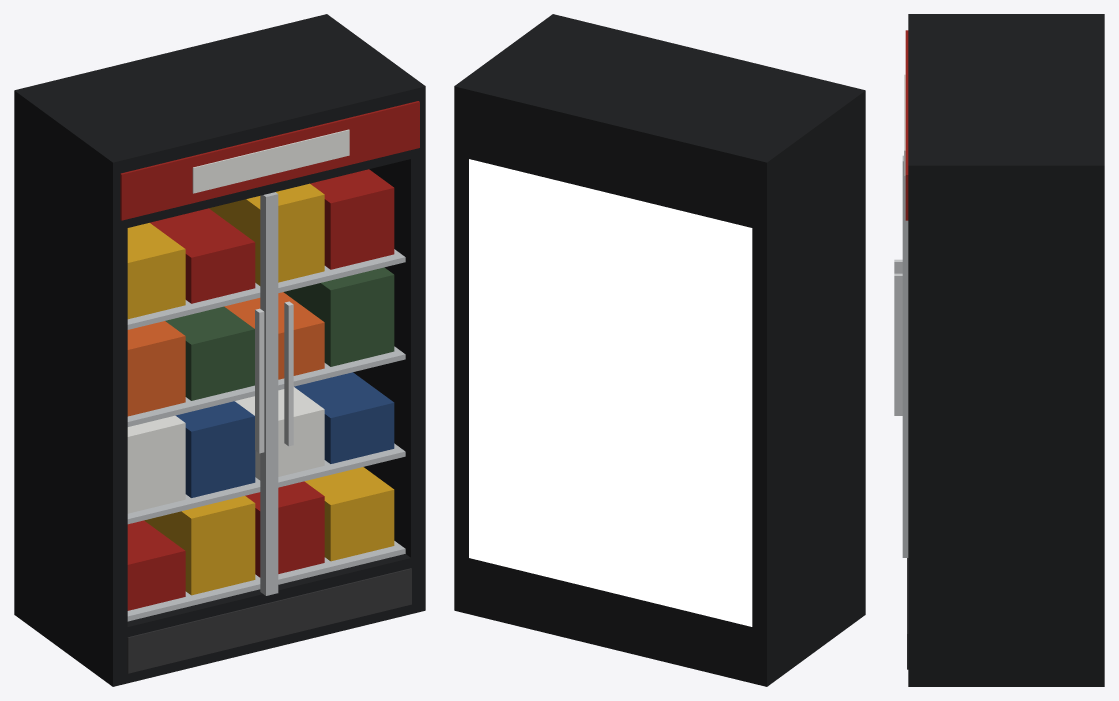
Rendered from drinks_fridge.glb.
3 renders of one model, left to right at view 1: azimuth 30°, elevation 25°; view 2: azimuth 150°, elevation 25°; view 3: azimuth 270°, elevation 25°, orthographic.
Visible parts, largest first — view 1: drinks_fridge; view 2: drinks_fridge; view 3: drinks_fridge.
Boxes of the visible parts, x1=… form: drinks_fridge: x1=14, y1=14, x2=425, y2=686; drinks_fridge: x1=454, y1=14, x2=865, y2=686; drinks_fridge: x1=894, y1=14, x2=1104, y2=686.
Size of the model in its own units: 1.28 by 2.05 by 0.75.
Materials: 1 (1 with a texture image).
